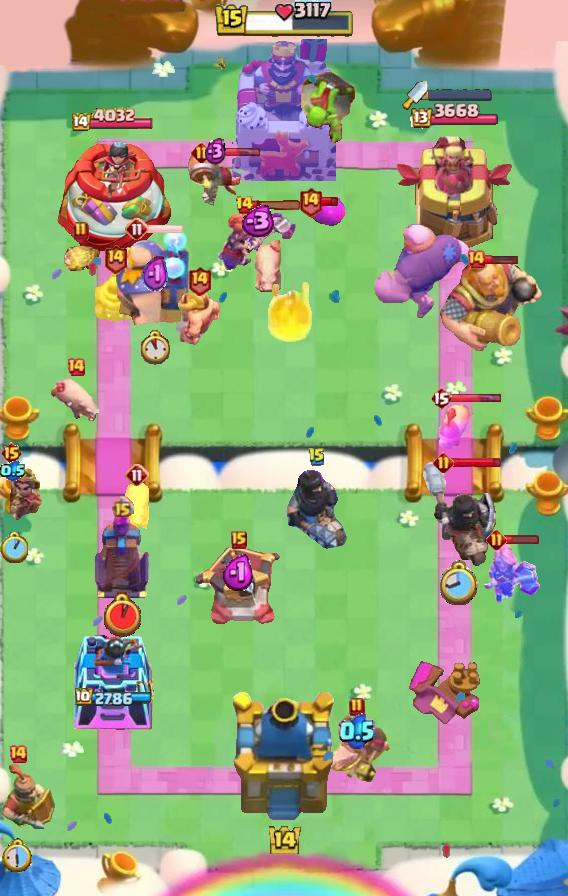balloon: (371, 222, 473, 322)
bar: (391, 132, 515, 256)
bar-level: (298, 67, 358, 143)
bomber-evolution: (0, 467, 43, 523)
clock: (213, 0, 355, 40)
earthquake: (0, 763, 56, 829)
electro-spirit: (339, 713, 375, 749), (222, 554, 256, 592), (236, 205, 275, 237), (143, 255, 170, 295), (205, 137, 228, 165), (0, 461, 26, 481)
elixir: (440, 561, 479, 608), (104, 592, 141, 637), (138, 331, 172, 365), (2, 839, 34, 873), (0, 532, 28, 563)
emote: (450, 455, 501, 469), (209, 147, 261, 158), (251, 201, 303, 212), (450, 392, 502, 403), (148, 223, 185, 235), (485, 253, 520, 265), (504, 535, 540, 546), (320, 196, 340, 207)
executioner: (439, 397, 471, 449)
freeze: (322, 710, 392, 784)
giant: (48, 377, 104, 427), (251, 234, 285, 296), (121, 479, 153, 529)
giant-skeleton: (435, 258, 543, 354)
goblin-drill: (91, 274, 139, 324)
goblin-giant: (176, 292, 222, 346)
ice-spirit-evolution: (61, 244, 101, 274)
ice-spirit-evolution-symbol: (92, 508, 152, 600)
inferno-dragon: (418, 459, 500, 569), (285, 468, 349, 551)
king-tower: (227, 692, 341, 826), (232, 39, 336, 181)
king-tower-bar: (428, 89, 492, 101)
knight: (187, 148, 243, 208)
lava-pup: (195, 546, 283, 628)
little-prince: (111, 227, 199, 327)
miner: (310, 198, 346, 228)
queen-tower: (51, 137, 177, 255), (73, 623, 155, 731)
selected: (408, 103, 498, 131), (72, 107, 156, 134), (74, 688, 154, 708)
tesla-evolution: (215, 207, 296, 273), (482, 542, 542, 606)
text: (298, 186, 323, 217), (103, 242, 128, 273), (188, 265, 213, 295), (125, 217, 149, 241), (125, 463, 149, 487), (1, 441, 24, 465), (111, 496, 134, 519), (430, 386, 452, 410), (192, 141, 213, 163), (433, 451, 454, 473), (485, 530, 506, 551), (466, 249, 486, 269), (66, 357, 86, 377), (8, 744, 28, 764), (234, 195, 253, 215), (308, 447, 326, 467), (73, 221, 89, 241), (349, 697, 365, 717), (231, 531, 247, 549)
valkyrie: (260, 276, 316, 346)
